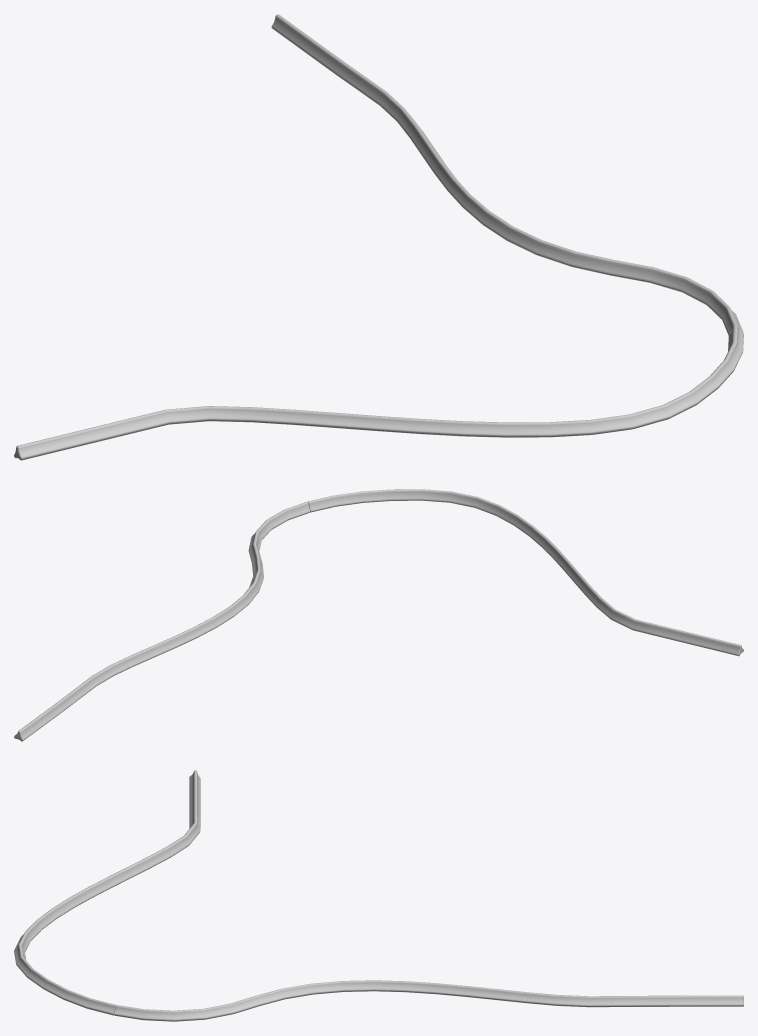
3 views of the same model, one above another, from view 1: azimuth 30°, elevation 25°; view 2: azimuth 150°, elevation 25°; view 3: azimuth 270°, elevation 25° (orthographic). The views are drawn at different scales.
Visible parts, largest first — view 1: SM_Tube_3_4_LOD0; view 2: SM_Tube_3_4_LOD0; view 3: SM_Tube_3_4_LOD0.
Part boxes in pixels (x1,y1,x2,y2): SM_Tube_3_4_LOD0: (14,14,743,460); SM_Tube_3_4_LOD0: (14,489,743,741); SM_Tube_3_4_LOD0: (14,770,743,1021).
Bounding box in the file's own units: 441 × 559 × 8.49.
